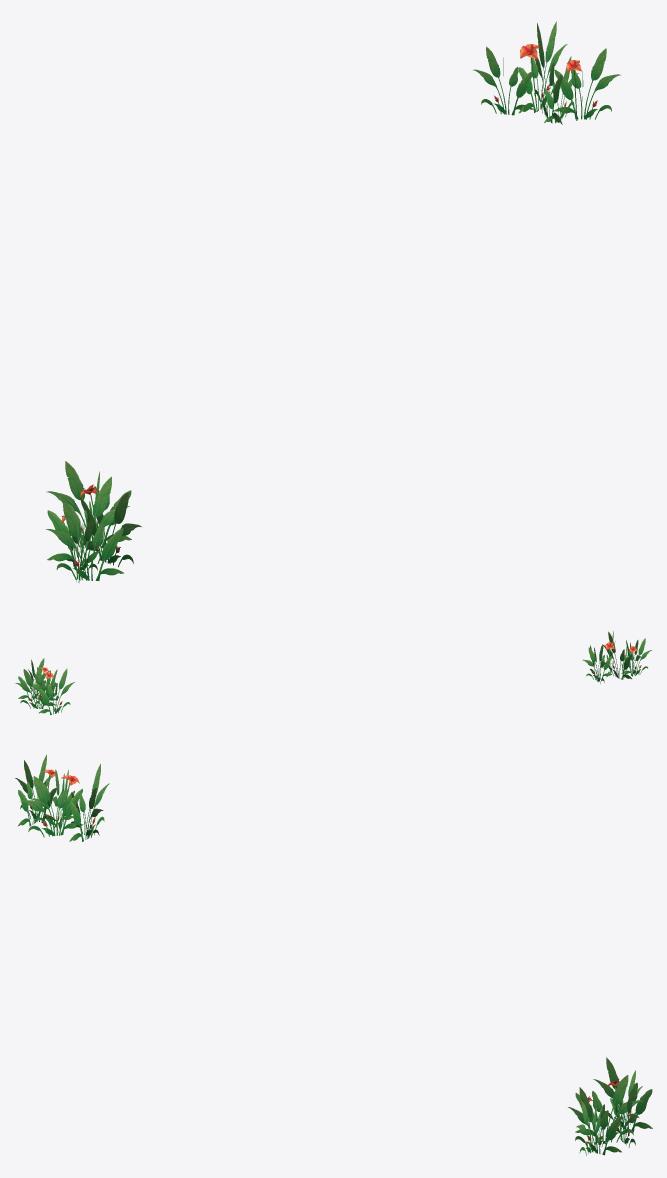
The model's file is area_01_11.fbx.
The picture shows the model from 3 angles, top to bottom: view 1: azimuth 30°, elevation 25°; view 2: azimuth 150°, elevation 25°; view 3: azimuth 270°, elevation 25°; orthographic projection. The views are drawn at different scales.
Parts seen in each view (by area): view 1: area_01_11; view 2: area_01_11; view 3: area_01_11.
Part boxes in pixels (x1=…): area_01_11: x1=46, y1=21, x2=620, y2=582; area_01_11: x1=15, y1=631, x2=651, y2=714; area_01_11: x1=15, y1=754, x2=652, y2=1155.
Size of the model in its own units: 16.9 by 1.55 by 12.97.
